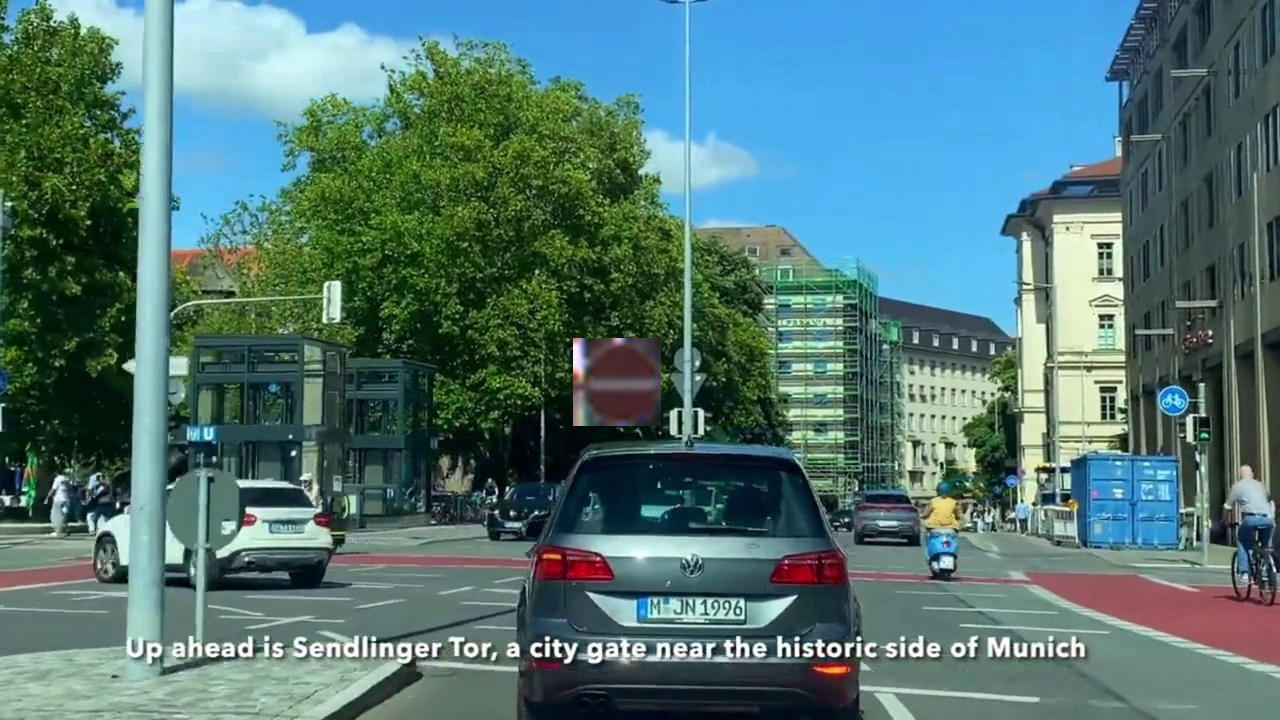No entry: (573, 338, 661, 426)
